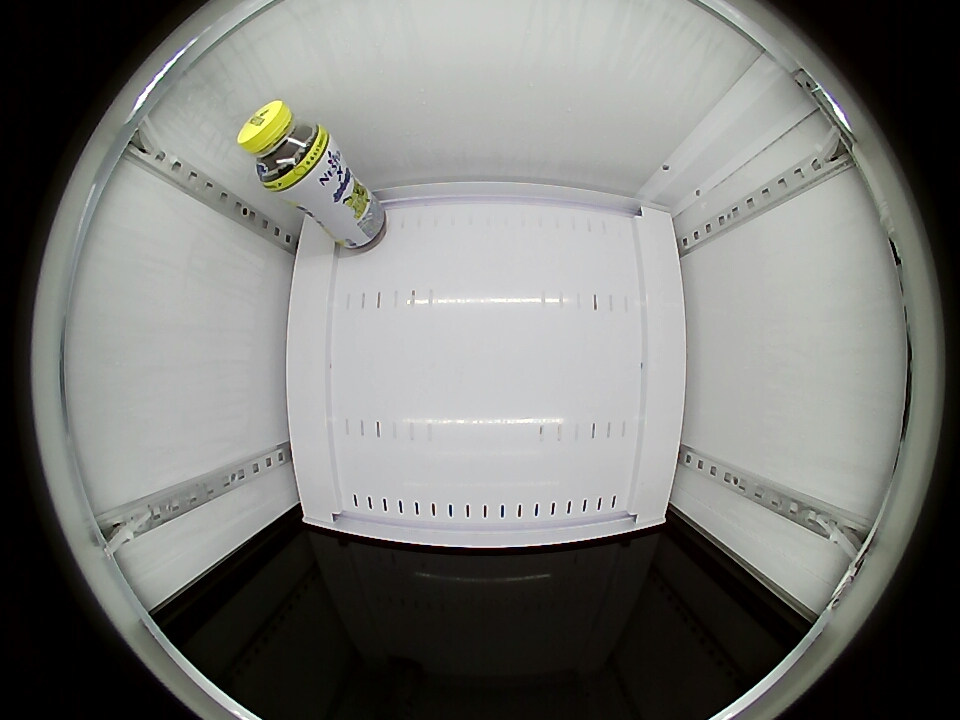chacui: (238, 100, 332, 193)
